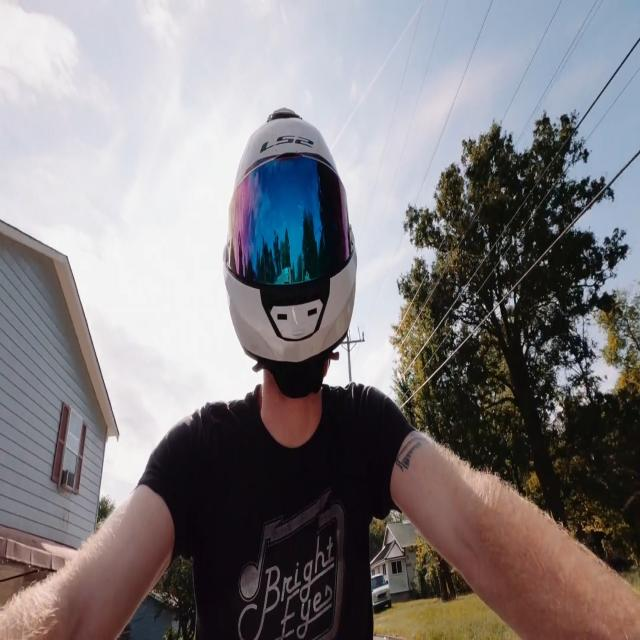Helmet_Wearer: (216, 98, 365, 415)
Person: (5, 101, 640, 640)
